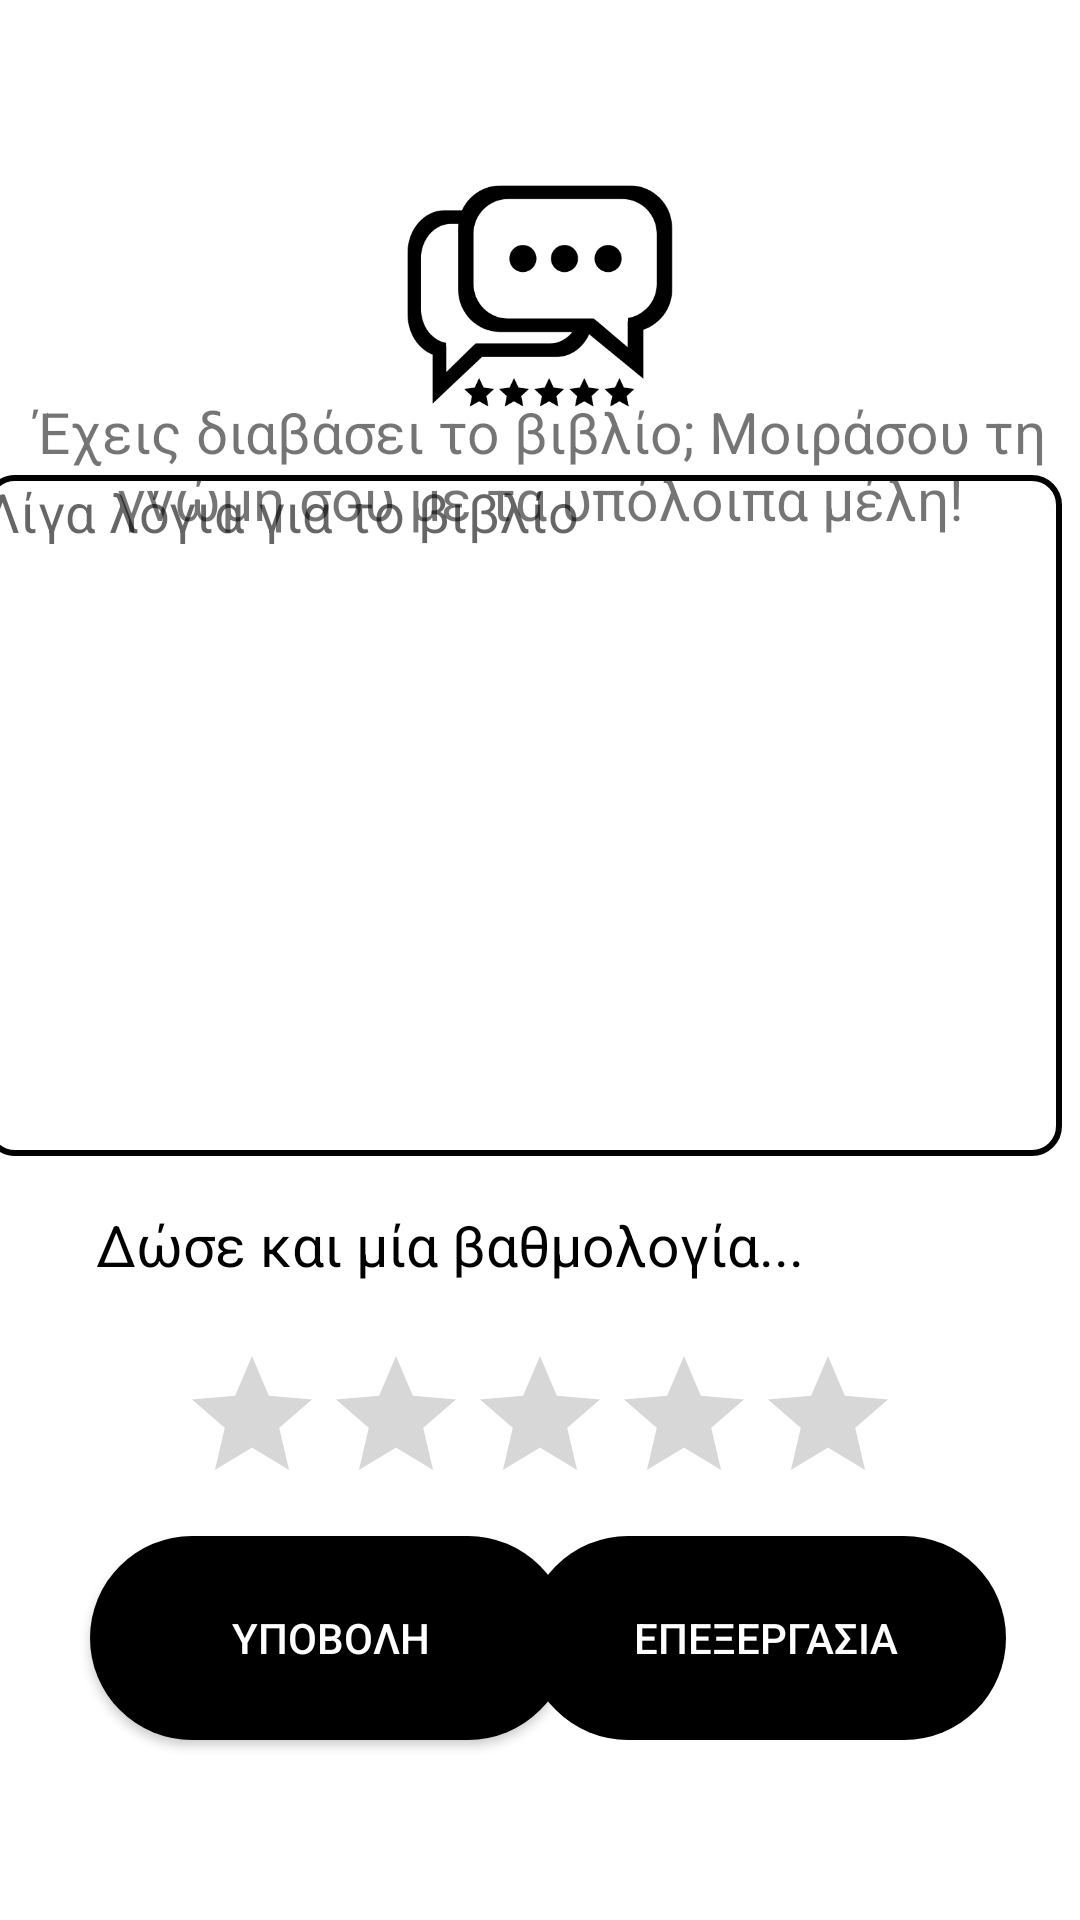

Icons on this 1080 × 1920 Android screen, each with the point to tap as (x,y):
review: (535,324)
